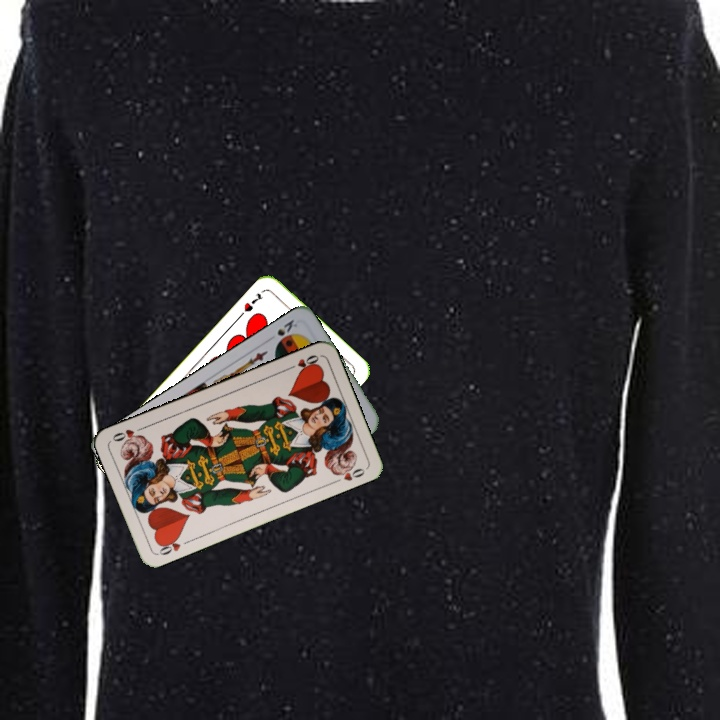H7: (240, 289, 266, 314)
HO: (154, 532, 193, 558), (283, 351, 322, 374)
SK: (273, 315, 300, 339)
